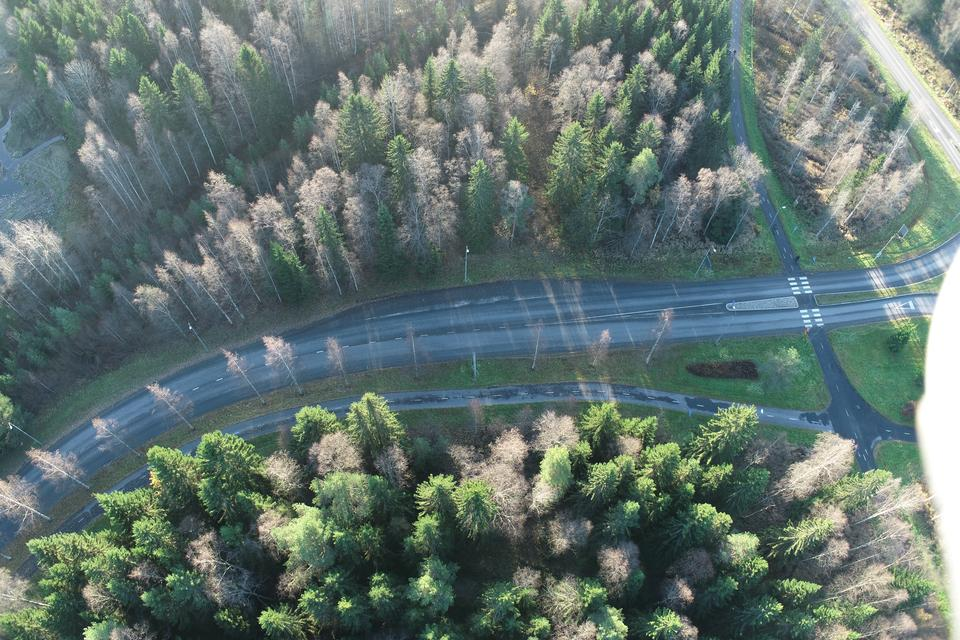intersection: (768, 248, 859, 356)
